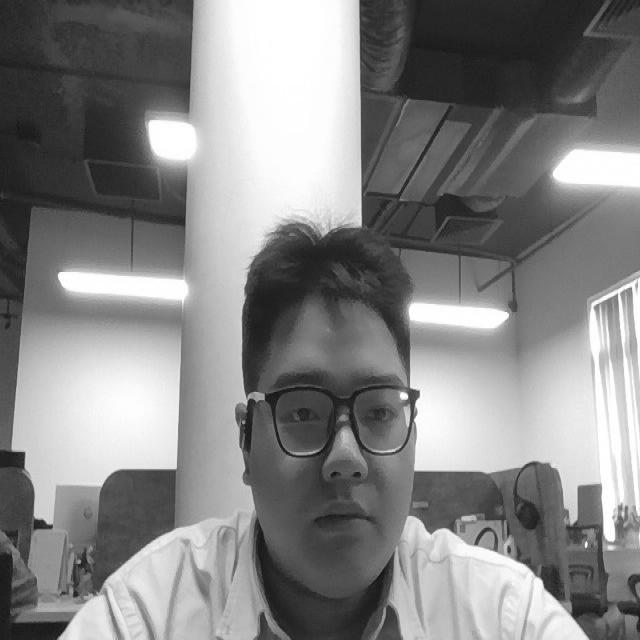real: (234, 212, 421, 595), (275, 365, 410, 449)
